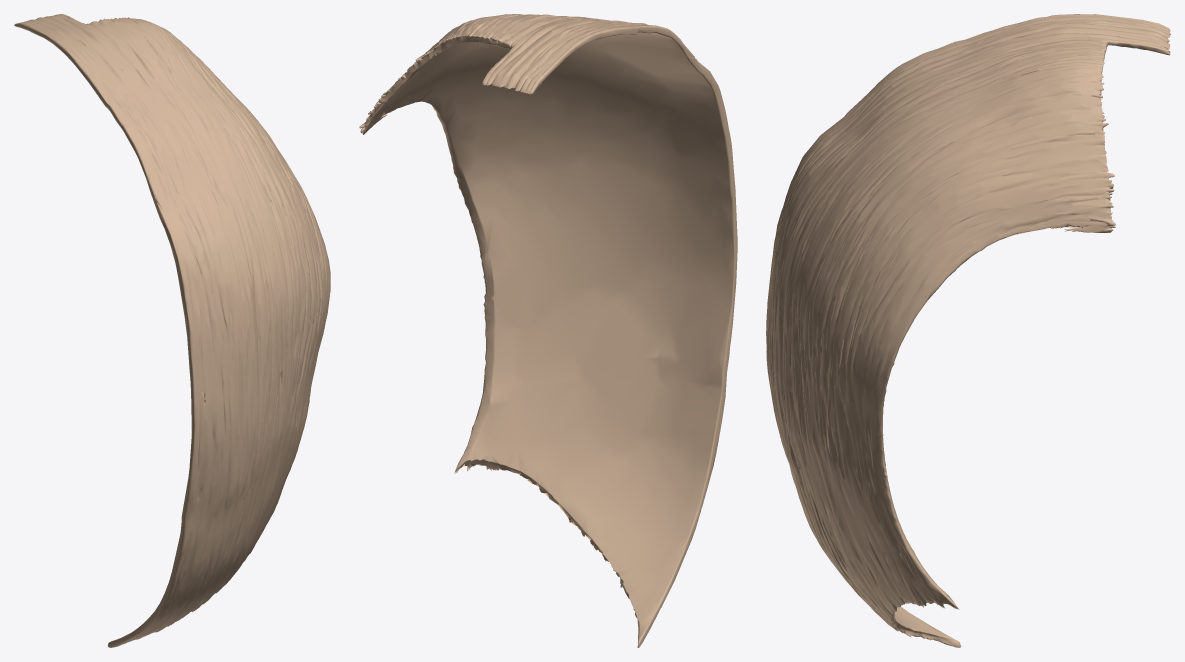
3 renders of one model, left to right at view 1: azimuth 30°, elevation 25°; view 2: azimuth 150°, elevation 25°; view 3: azimuth 270°, elevation 25°, orthographic. The views are drawn at different scales.
Visible parts, largest first — view 1: 左侧帽状腱膜; view 2: 左侧帽状腱膜; view 3: 左侧帽状腱膜.
Part boxes in pixels (bbox=[...]): 左侧帽状腱膜: bbox=[14, 14, 330, 647]; 左侧帽状腱膜: bbox=[359, 14, 737, 647]; 左侧帽状腱膜: bbox=[766, 14, 1170, 647].
Size of the model in its own units: 0.0985 by 0.2777 by 0.1607.
